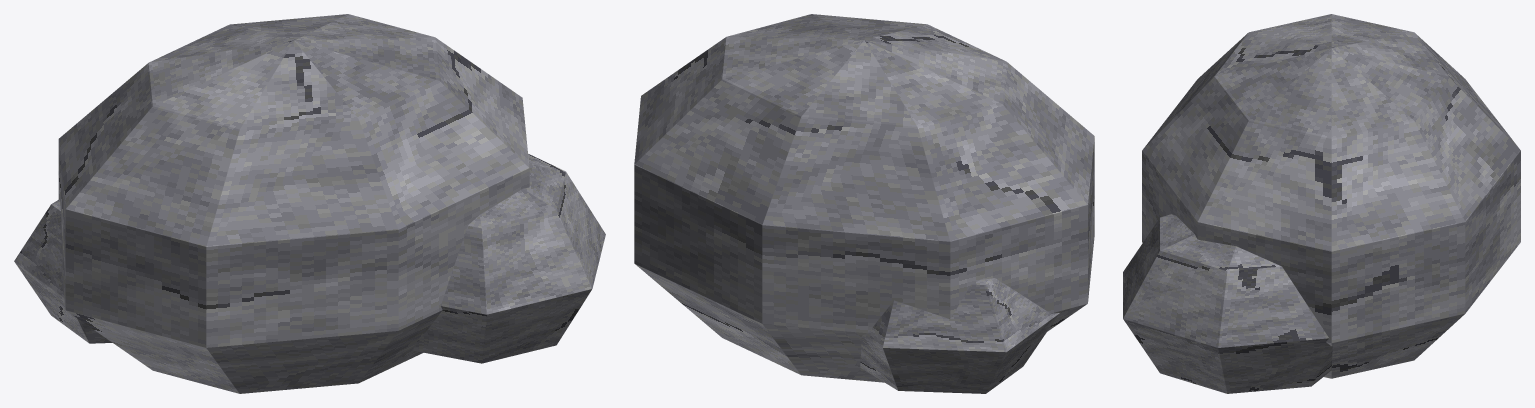
The model's file is pedra.glb.
3 renders of one model, left to right at view 1: azimuth 30°, elevation 25°; view 2: azimuth 150°, elevation 25°; view 3: azimuth 270°, elevation 25°, orthographic. The views are drawn at different scales.
Visible parts, largest first — view 1: pedra; view 2: pedra; view 3: pedra.
Boxes of the visible parts, left/top/right/bottom form: pedra: left=14, top=14, right=605, bottom=393; pedra: left=634, top=14, right=1094, bottom=393; pedra: left=1123, top=14, right=1520, bottom=393.
Size of the model in its own units: 1.04 by 0.6817 by 0.8295.
1 material, 1 textured.
